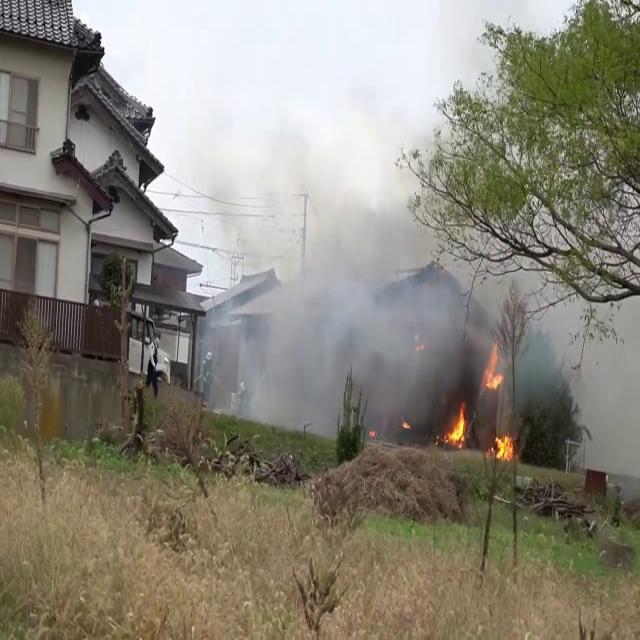Fire: (443, 342, 517, 463), (481, 340, 507, 396), (443, 398, 469, 450)
Smoke: (215, 103, 473, 437)
